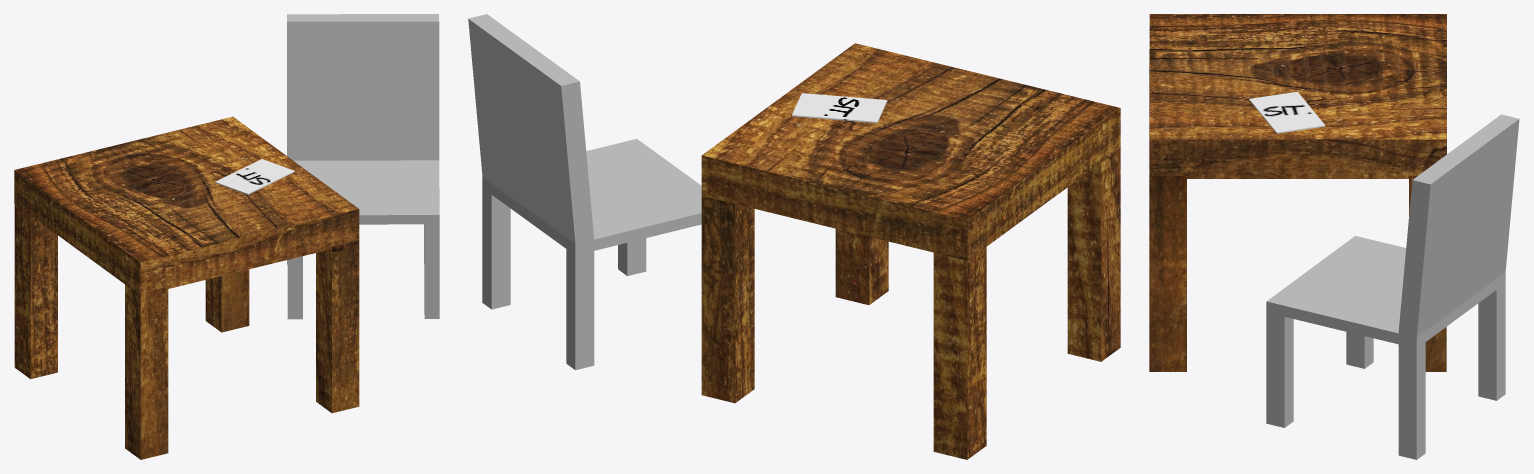
The model's file is Room.fbx.
3 views of the same model, side by side, from view 1: azimuth 30°, elevation 25°; view 2: azimuth 150°, elevation 25°; view 3: azimuth 270°, elevation 25° (orthographic). The views are drawn at different scales.
Visible parts, largest first — view 1: Cube.001, Cube.002, Cube; view 2: Cube.001, Cube.002, Cube; view 3: Cube.001, Cube.002, Cube.
Part boxes in pixels (left/top/right/bottom): Cube.001: left=14, top=116, right=359, bottom=459; Cube.002: left=287, top=14, right=439, bottom=319; Cube: left=215, top=159, right=294, bottom=194; Cube.001: left=701, top=43, right=1120, bottom=459; Cube.002: left=468, top=14, right=701, bottom=370; Cube: left=792, top=93, right=887, bottom=123; Cube.001: left=1149, top=14, right=1446, bottom=371; Cube.002: left=1266, top=114, right=1519, bottom=459; Cube: left=1249, top=91, right=1325, bottom=133.
Bounding box in the file's own units: 408 × 239 × 266.
